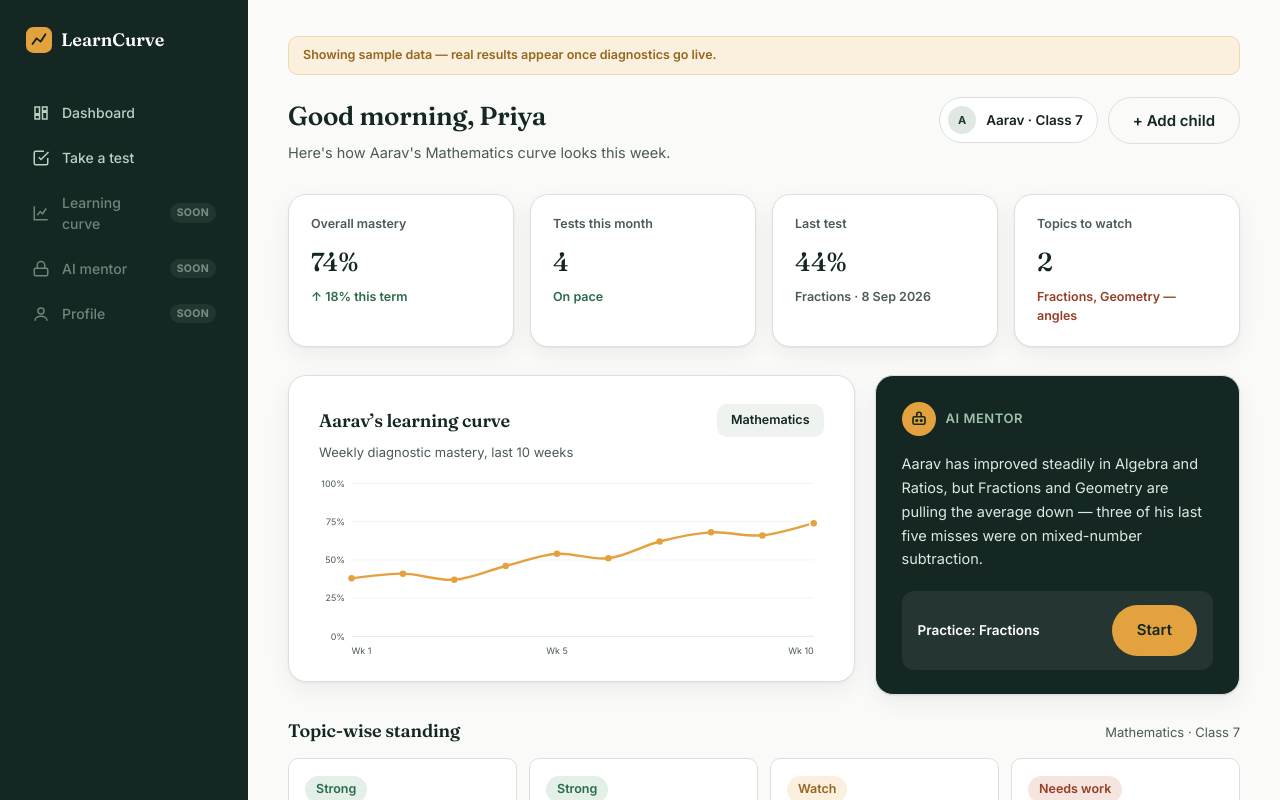
it: Dashboard › can cancel adding a child
The image size is (1280, 800).
Click the button "+ Add child".
click(1174, 120)  # box [1108,97,1240,144]
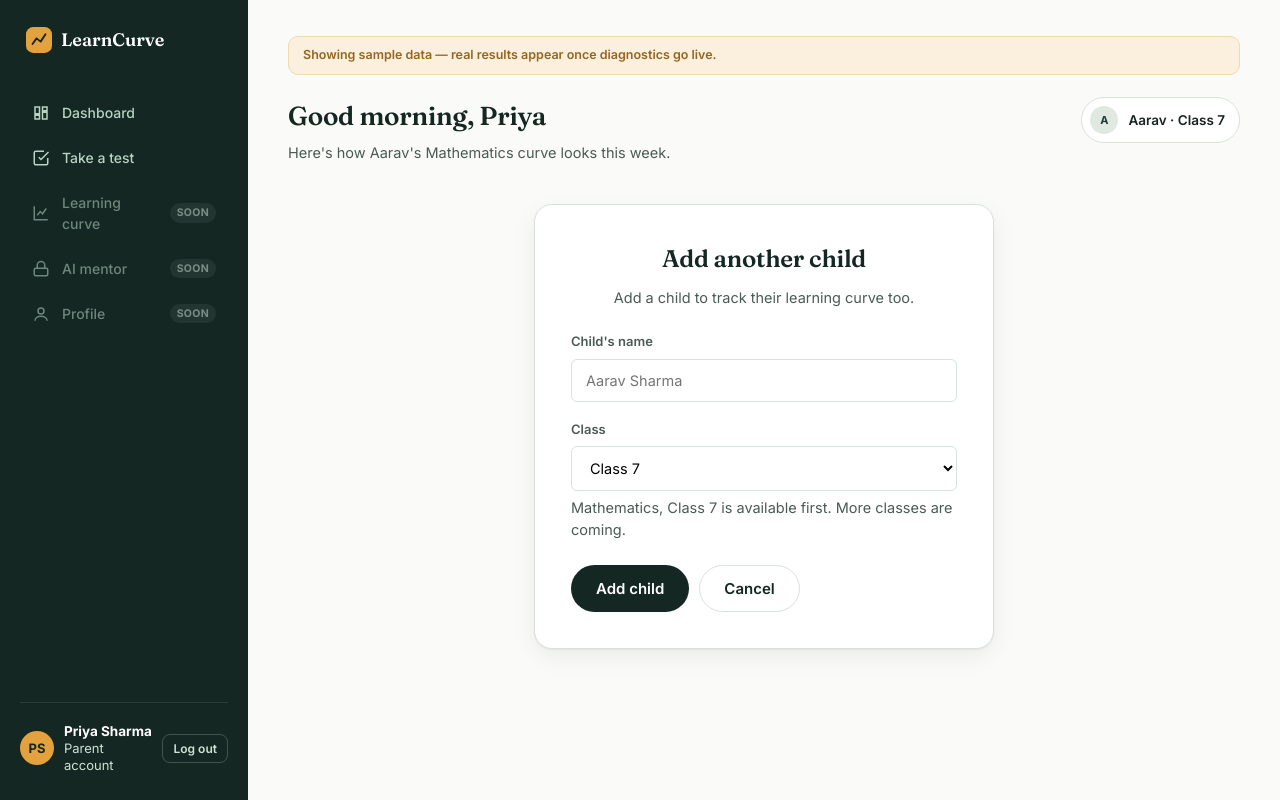
Result: the heading "Add another child" is shown at [662,244,866,272]
Click the button "Cancel".
click(750, 588)  # box [699,565,800,612]
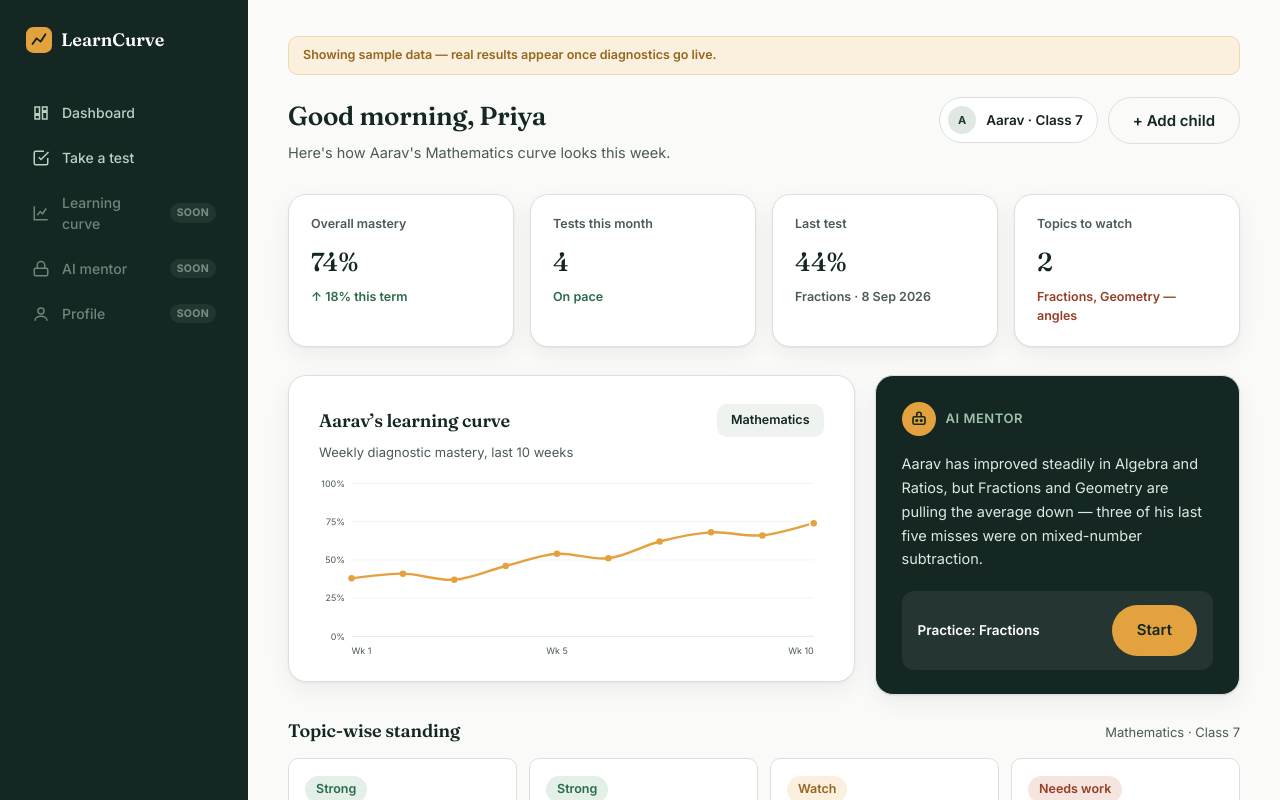
Result: the text "Overall mastery" is shown at [311,216,406,230]
